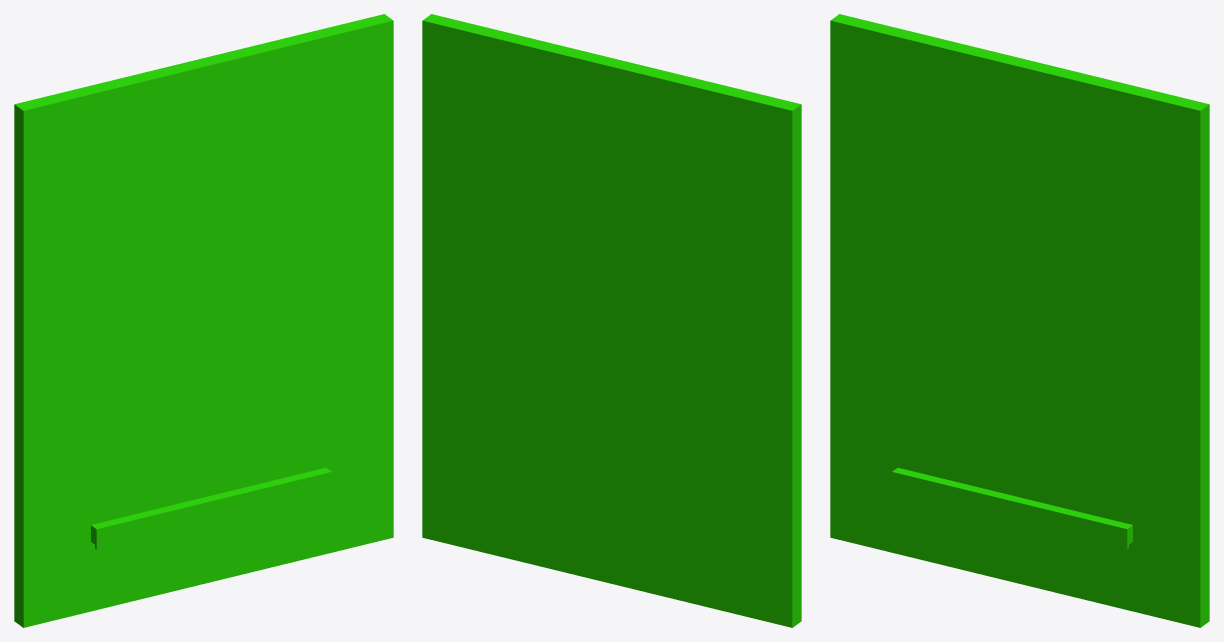
Rendered from Kitchen_Cupboard_13_Door.fbx.
3 renders of one model, left to right at view 1: azimuth 30°, elevation 25°; view 2: azimuth 150°, elevation 25°; view 3: azimuth 330°, elevation 25°, orthographic.
Visible parts, largest first — view 1: Kitchen_Cupboard_13_Door; view 2: Kitchen_Cupboard_13_Door; view 3: Kitchen_Cupboard_13_Door.
Part boxes in pixels (x1,y1,x2,y2): Kitchen_Cupboard_13_Door: [14, 14, 393, 627]; Kitchen_Cupboard_13_Door: [422, 14, 801, 627]; Kitchen_Cupboard_13_Door: [830, 14, 1209, 627].
Bounding box in the file's own units: 68.77 × 91.84 × 4.78.
